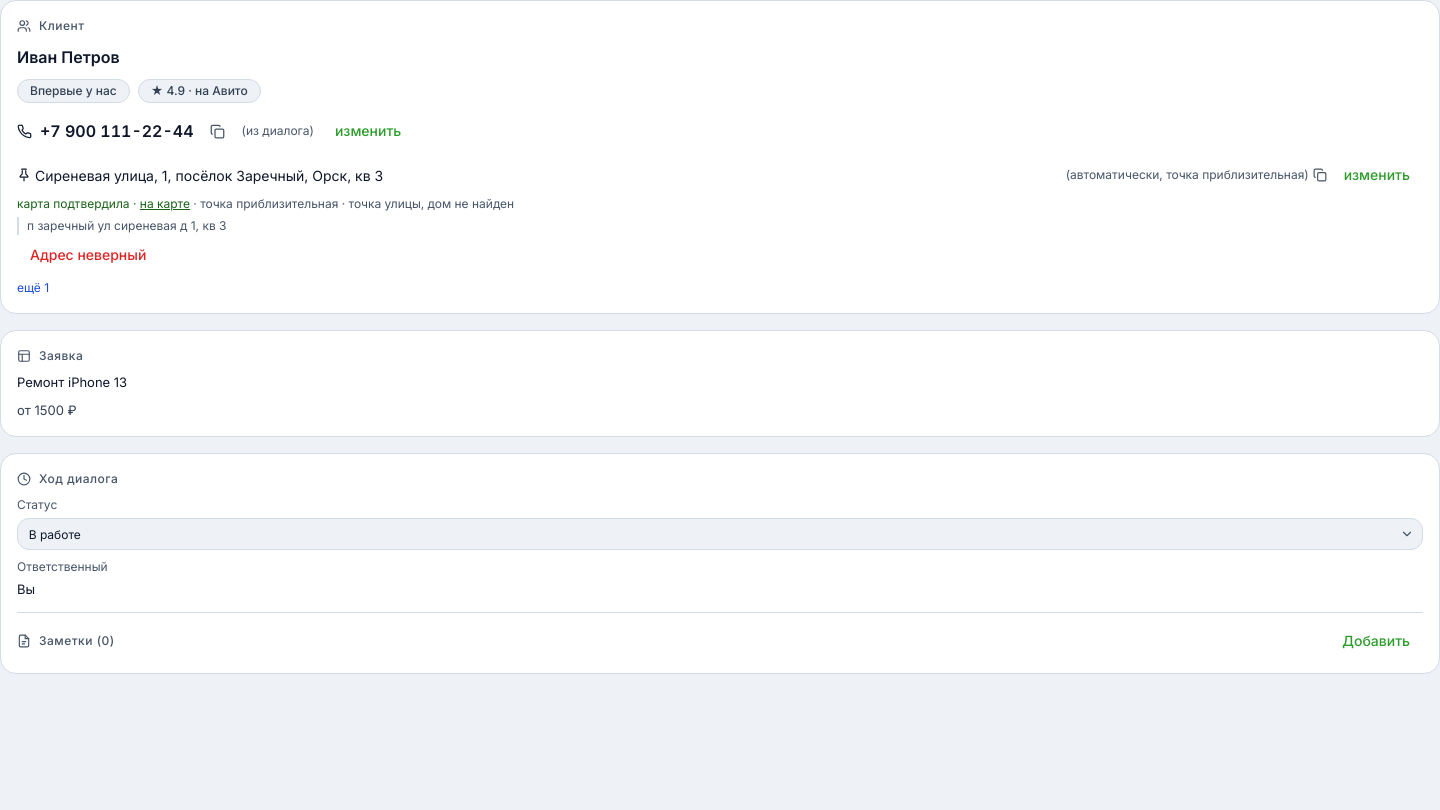
Test: адрес: подпись правила, варианты источника и «Адрес неверный» › «Адрес неверный»: первое касание — вопрос, второе — POST /address/wrong, карточка пустеет
Expected: the element with class "card-address" is shown, [17,159,1423,271]
Click the button "Адрес неверный".
click(88, 255)  # box [17,239,159,271]
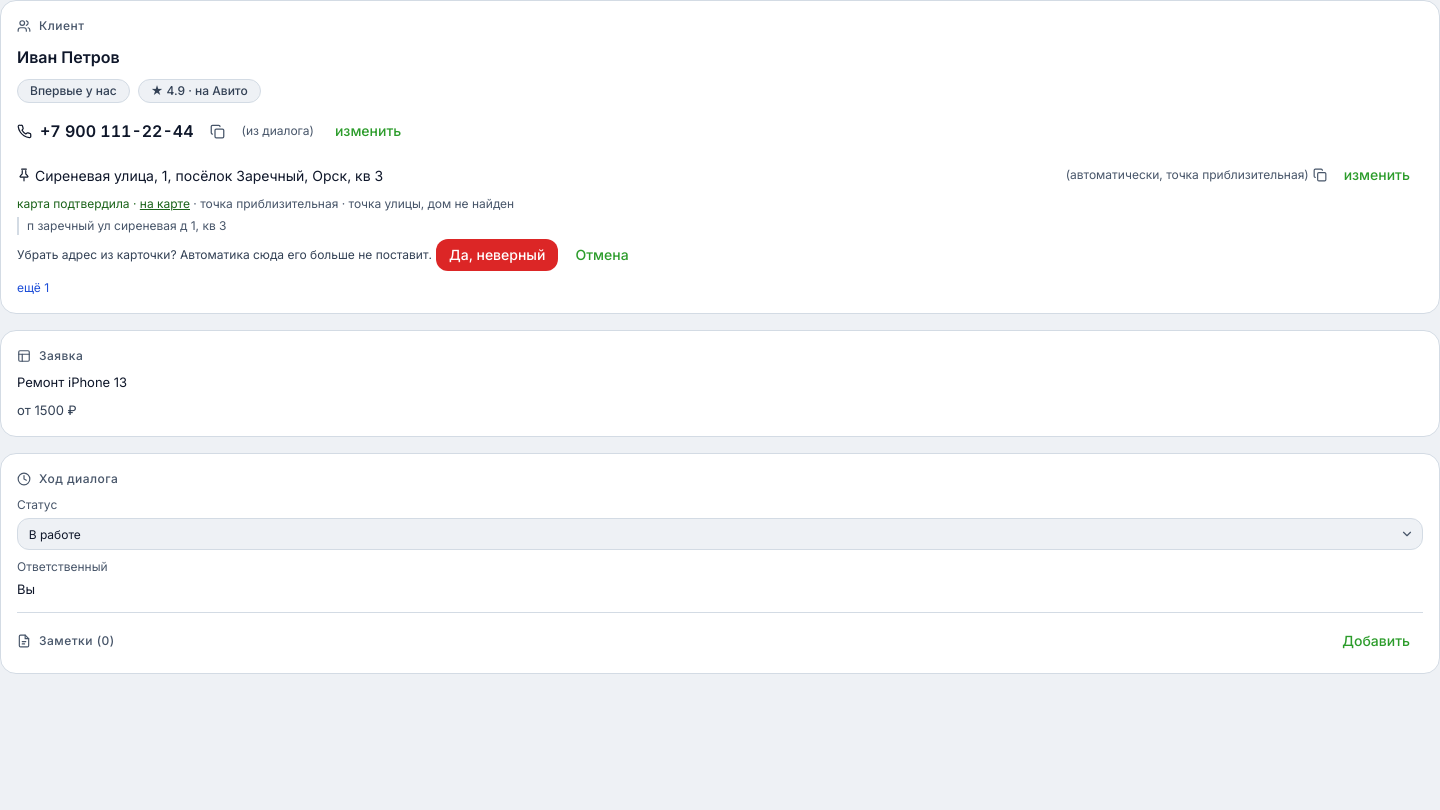
Expected: the text "Убрать адрес из карточки" is shown, [17,247,432,262]
«Отмена» закрывает вопрос без запроса.
Click the button "Отмена".
click(602, 255)  # box [562,239,642,271]
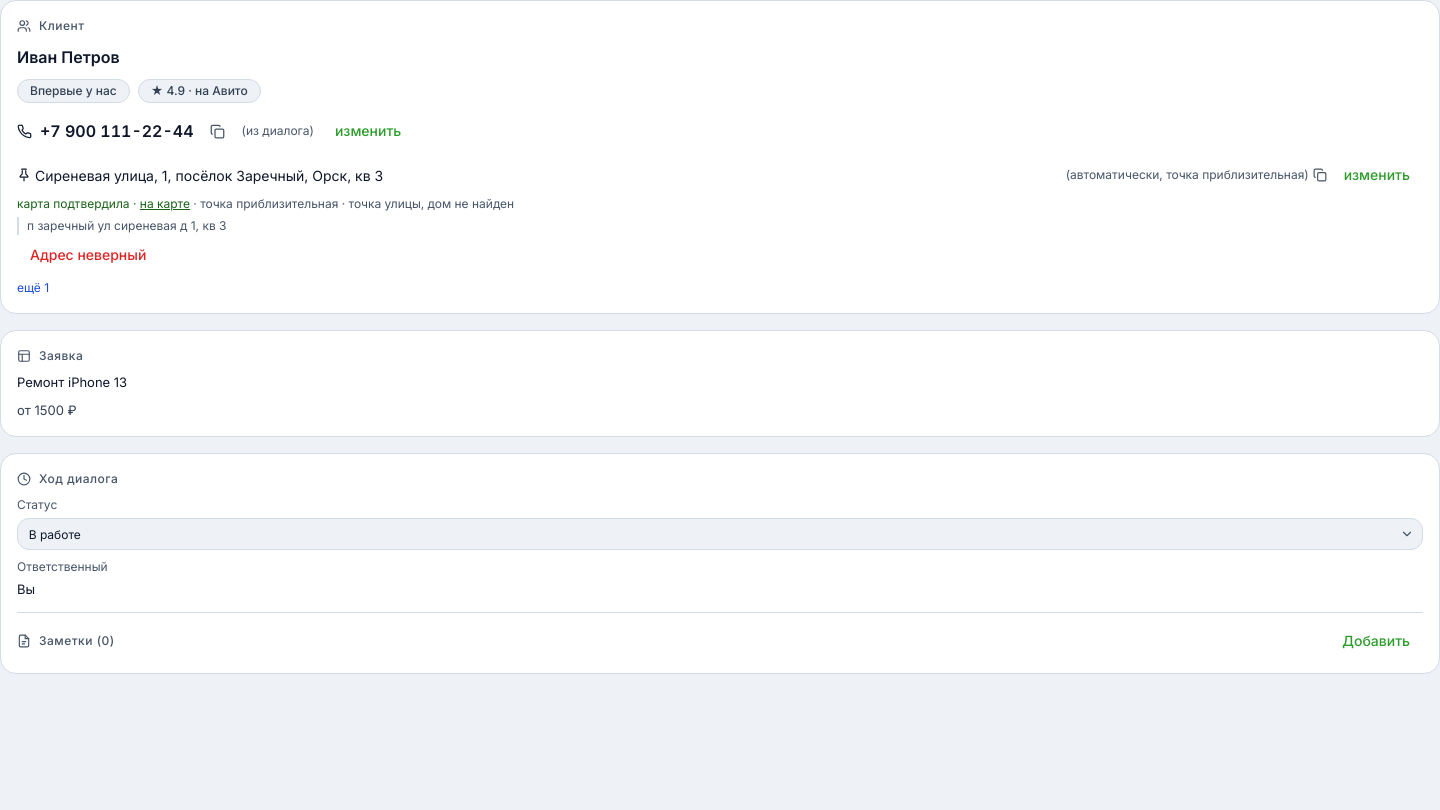
Второй заход — подтверждаем.
Click the button "Адрес неверный".
click(88, 255)  # box [17,239,159,271]
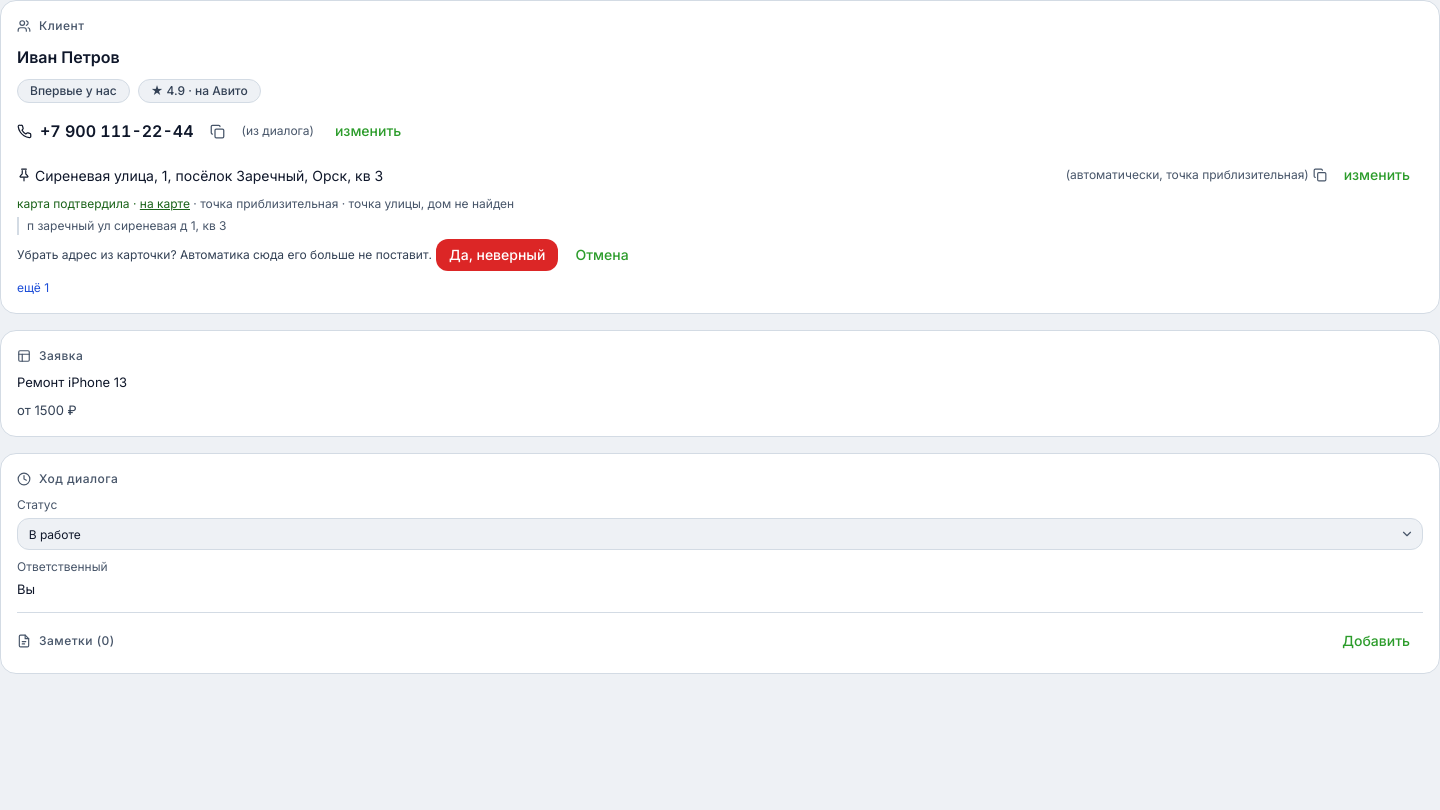
Click the button "Да, неверный".
click(497, 255)  # box [436,239,558,271]
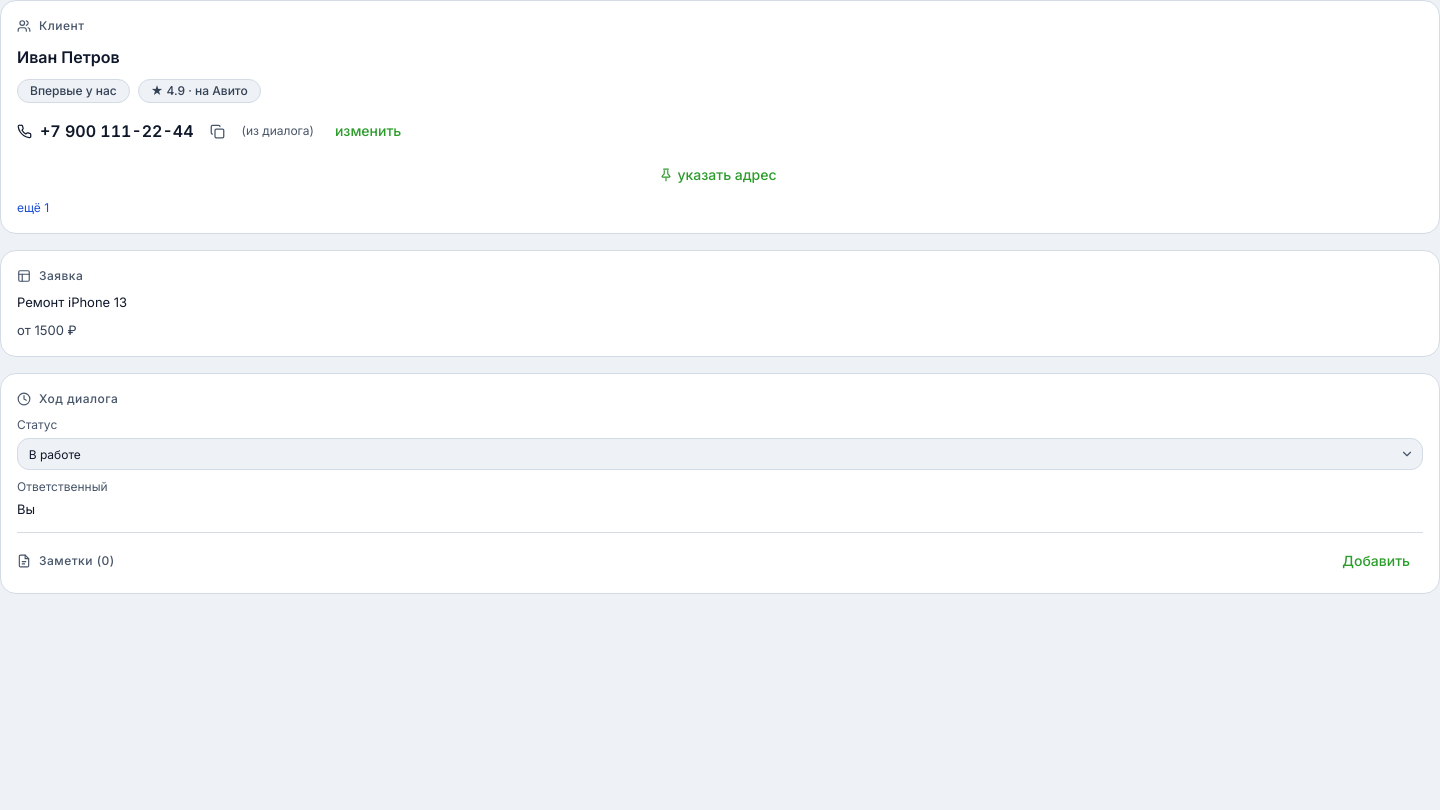
Expected: the button "Адрес неверный" is not shown
Expected: the button "указать адрес" is shown, [17,159,1423,191]
